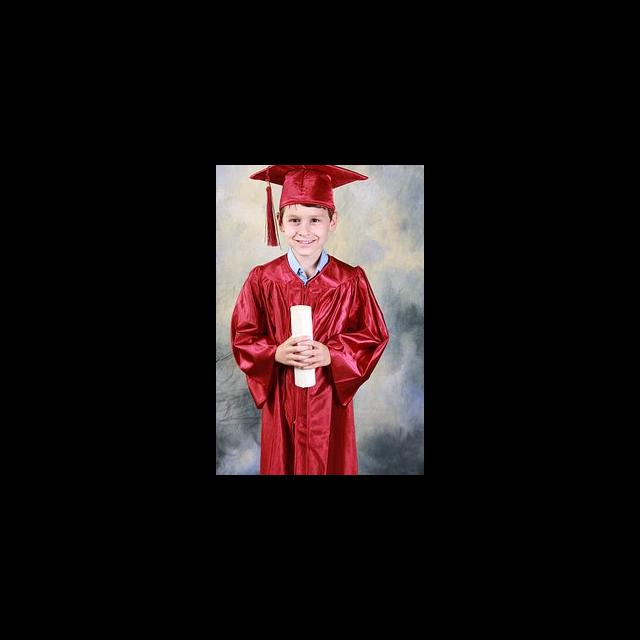male: (240, 165, 384, 271)
